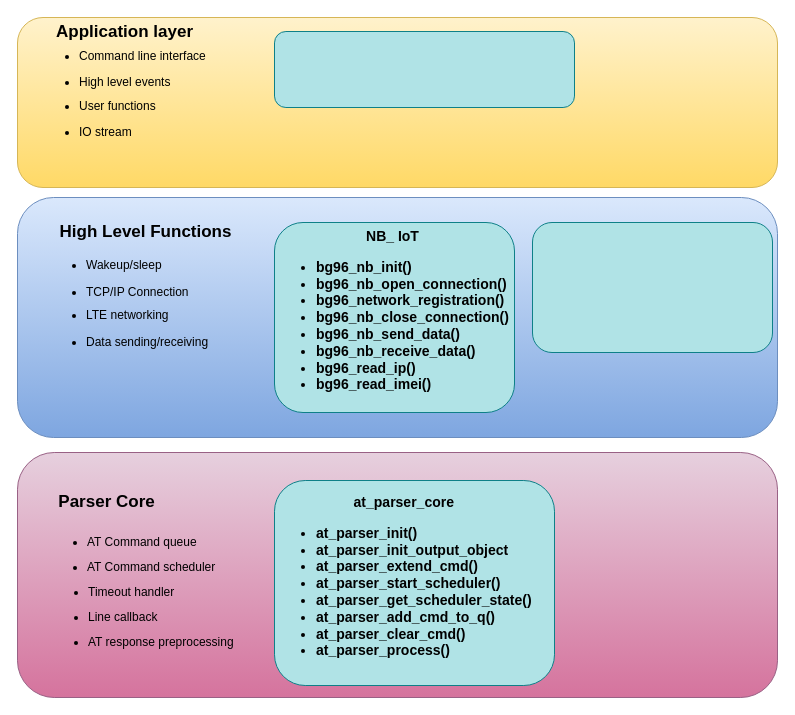
The diagram is 795 pixels wide and 715 high, and some of its shapes have lost their labels. Each missing label, with the box of its shape:
app_iostream_cli_process_action() app_iostream_cli_init(): (274, 30, 574, 108)
BG96_Driver bg96_init() bg96_is_alive() bg96_sleep() bg96_wake_up(): (532, 222, 772, 352)
